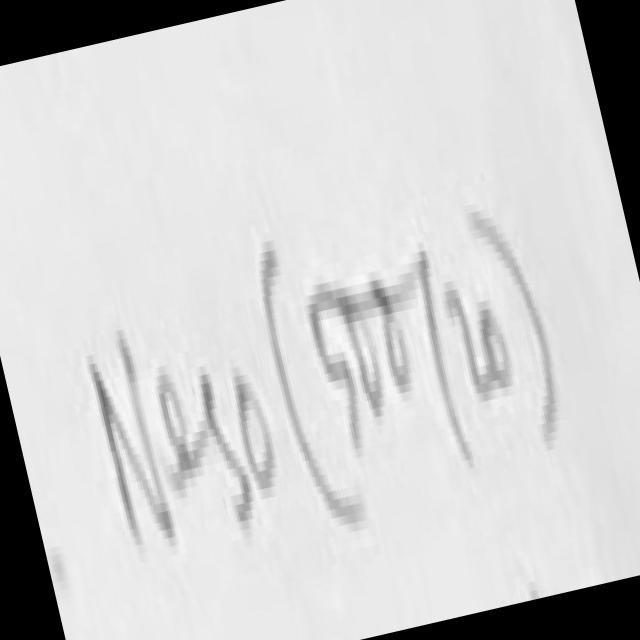0: (341, 287, 384, 416), (374, 280, 410, 392), (483, 308, 511, 387)
2: (448, 289, 496, 400)
5: (312, 294, 361, 448)
N: (90, 330, 174, 544)
e: (157, 373, 208, 477)
o: (236, 376, 275, 489)
s: (202, 374, 252, 517)
